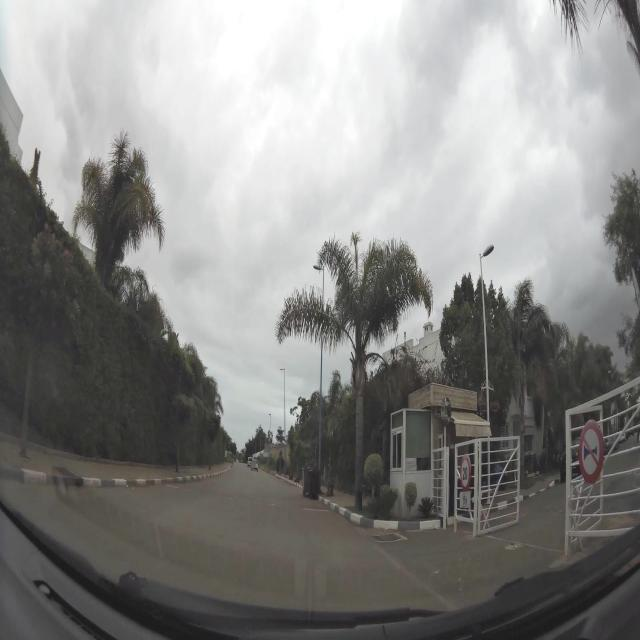car: (302, 464, 321, 498), (250, 460, 258, 472)
